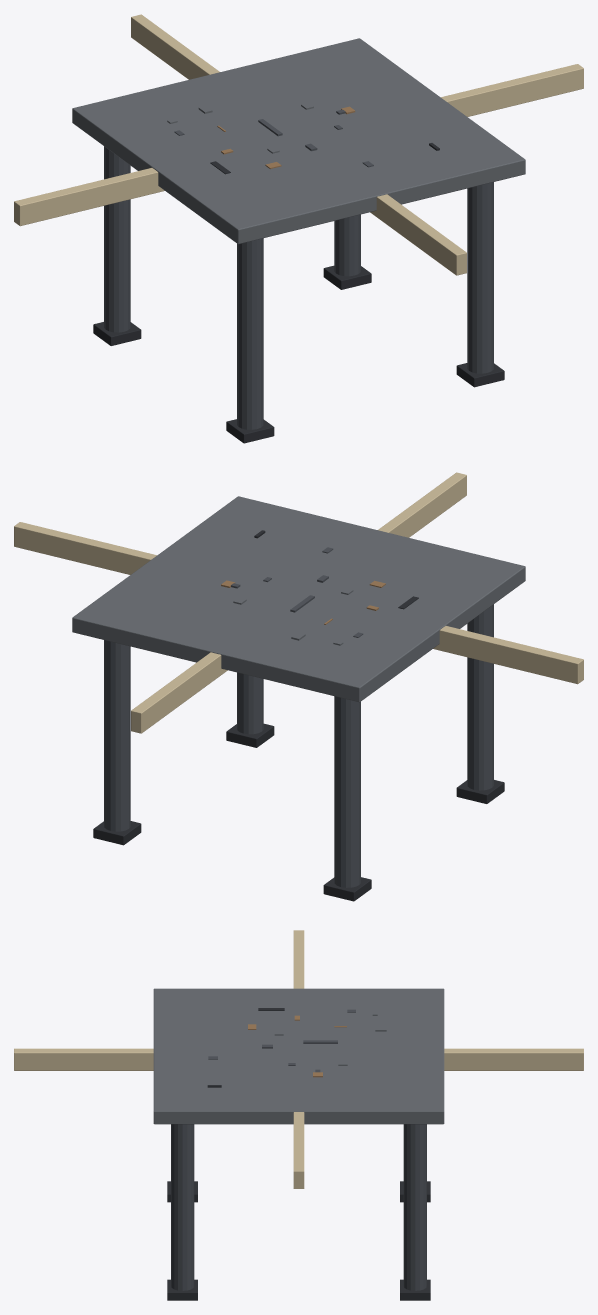
The model's file is env_platform.fbx.
3 renders of one model, top to bottom at view 1: azimuth 30°, elevation 25°; view 2: azimuth 150°, elevation 25°; view 3: azimuth 270°, elevation 25°, orthographic. The views are drawn at different scales.
Visible parts, largest first — view 1: SM_Env_Platform; view 2: SM_Env_Platform; view 3: SM_Env_Platform.
Boxes of the visible parts, <box> form: SM_Env_Platform: <box>14,14,583,443</box>; SM_Env_Platform: <box>14,472,583,901</box>; SM_Env_Platform: <box>14,930,583,1300</box>.
Size of what is drawn, in the model's own units: 627 by 239 by 627.
